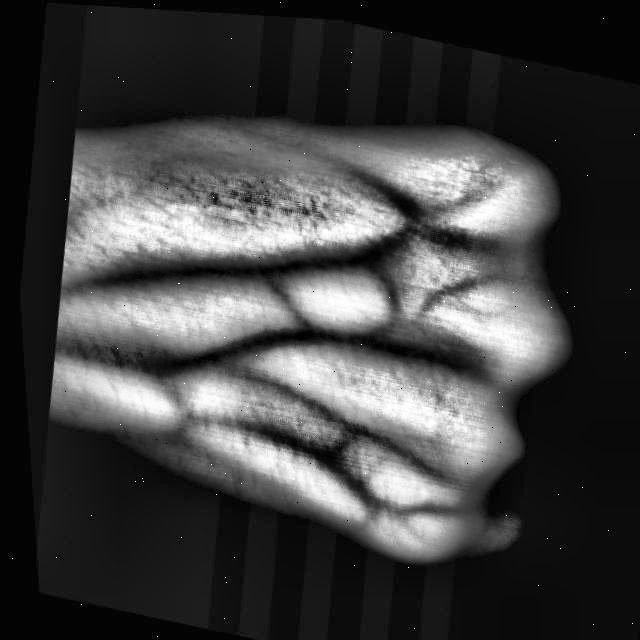Vein: (167, 320, 341, 379), (152, 249, 350, 289)
